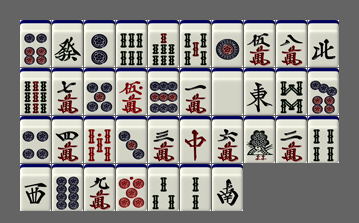0m: (116, 68, 147, 115)
0p: (116, 164, 147, 211)
0s: (84, 116, 115, 163)
1m: (180, 68, 211, 115)
1p: (212, 20, 243, 67)
1s: (244, 116, 275, 163)
1z: (244, 68, 275, 115)
2m: (276, 116, 307, 163)
2p: (84, 20, 115, 67)
2s: (180, 164, 211, 211)
2z: (212, 164, 243, 211)
3m: (148, 116, 179, 163)
3p: (116, 116, 147, 163)
3s: (148, 164, 179, 211)
3z: (20, 164, 51, 211)
4m: (52, 116, 83, 163)
4p: (20, 116, 51, 163)
4s: (308, 116, 339, 163)
4z: (308, 20, 339, 67)
5m: (244, 20, 275, 67)
5p: (84, 68, 115, 115)
5s: (180, 20, 211, 67)
5z: (212, 68, 243, 115)
6m: (212, 116, 243, 163)
6p: (20, 20, 51, 67)
6s: (116, 20, 147, 67)
6z: (52, 20, 83, 67)
7m: (52, 68, 83, 115)
7p: (308, 68, 339, 115)
7s: (148, 20, 179, 67)
7z: (180, 116, 211, 163)
8m: (276, 20, 307, 67)
8p: (52, 164, 83, 211)
8s: (276, 68, 307, 115)
9m: (84, 164, 115, 211)
9p: (148, 68, 179, 115)
9s: (20, 68, 51, 115)
